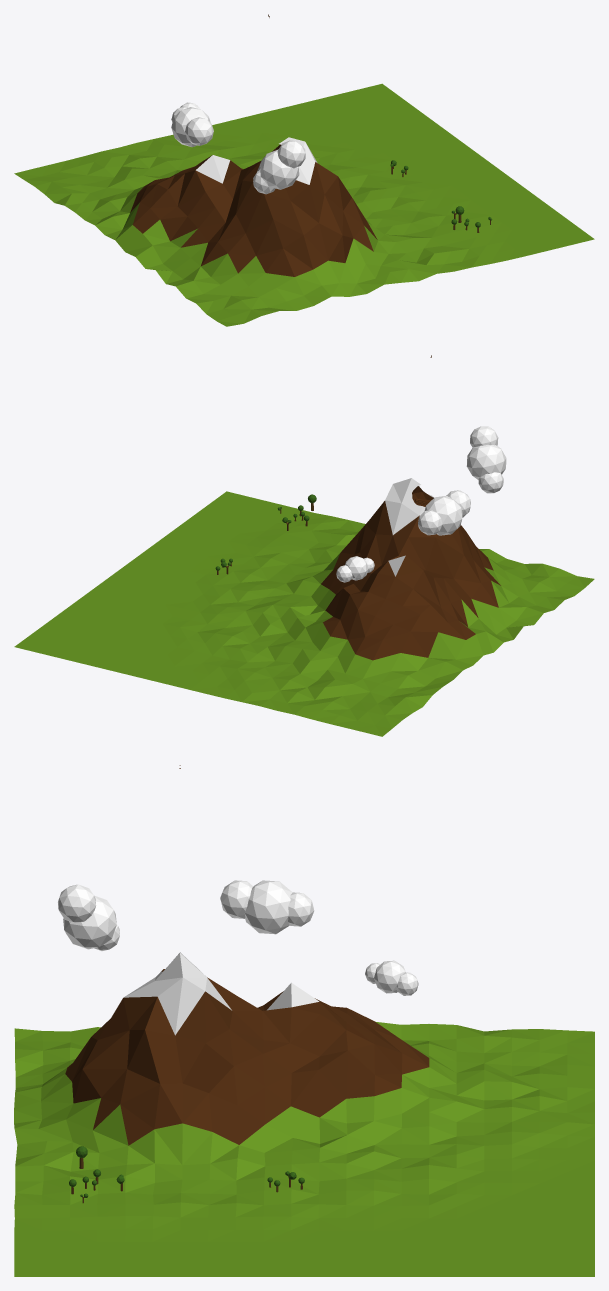
The model's file is seat.glb.
3 views of the same model, one above another, from view 1: azimuth 30°, elevation 25°; view 2: azimuth 150°, elevation 25°; view 3: azimuth 270°, elevation 25° (orthographic). The views are drawn at different scales.
Parts seen in each view (by area): view 1: Plane.004, Plane.006, Plane, Mountain top.001, Mountain top.002; view 2: Plane.004, Plane.006, Plane, Mountain top.002, Mountain top.001, Plane.038; view 3: Plane.004, Plane, Mountain top.002, Plane.006, Mountain top.001, Plane.038.
Boxes of the visible parts, box(x1,y1,x2,y2) form: Plane.004: box(14, 83, 594, 326); Plane.006: box(253, 140, 305, 194); Plane: box(171, 106, 213, 147); Mountain top.001: box(243, 144, 337, 200); Mountain top.002: box(253, 137, 317, 184); Plane.004: box(14, 491, 594, 736); Plane.006: box(466, 426, 506, 493); Plane: box(418, 490, 470, 535); Mountain top.002: box(385, 478, 433, 534); Mountain top.001: box(366, 486, 437, 537); Plane.038: box(336, 556, 374, 582); Plane.004: box(14, 982, 594, 1276); Plane: box(220, 880, 314, 934); Mountain top.002: box(124, 952, 231, 1035); Plane.006: box(58, 884, 119, 950); Mountain top.001: box(123, 969, 236, 1043); Plane.038: box(365, 960, 418, 995).
Bounding box in the file's own units: 80 × 50.91 × 80.05.
